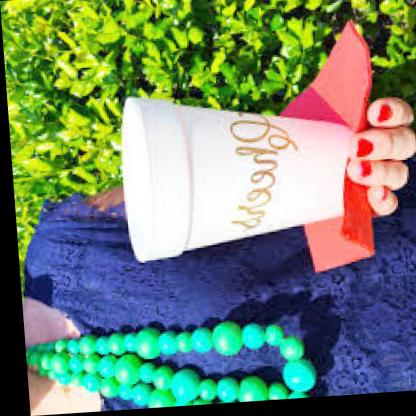Plastic: (107, 73, 356, 259)
